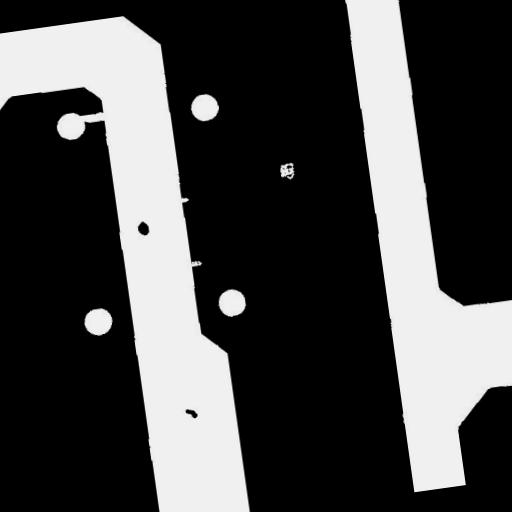copper: (128, 212, 158, 244), (176, 400, 206, 428)
mousebite: (179, 252, 211, 276), (170, 188, 198, 211)
open: (70, 102, 116, 132)
pin-hole: (270, 154, 304, 189)
